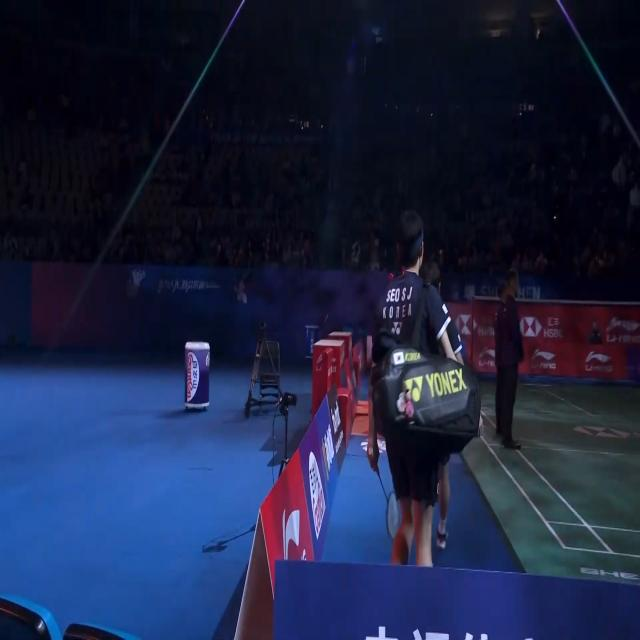referee: (500, 263, 524, 452), (492, 273, 507, 441)
